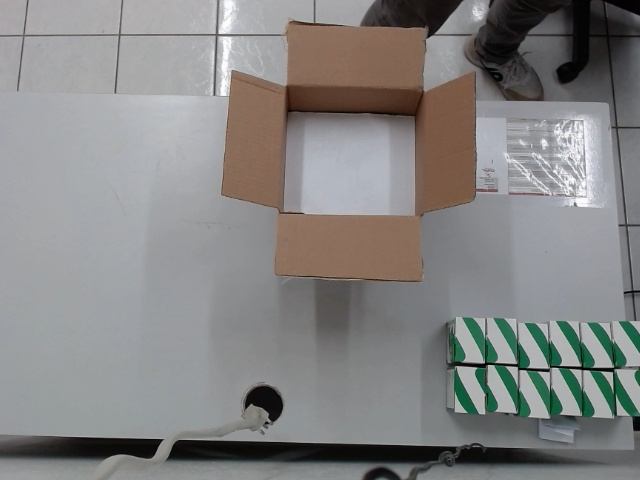caixa_principal: (219, 24, 480, 278)
